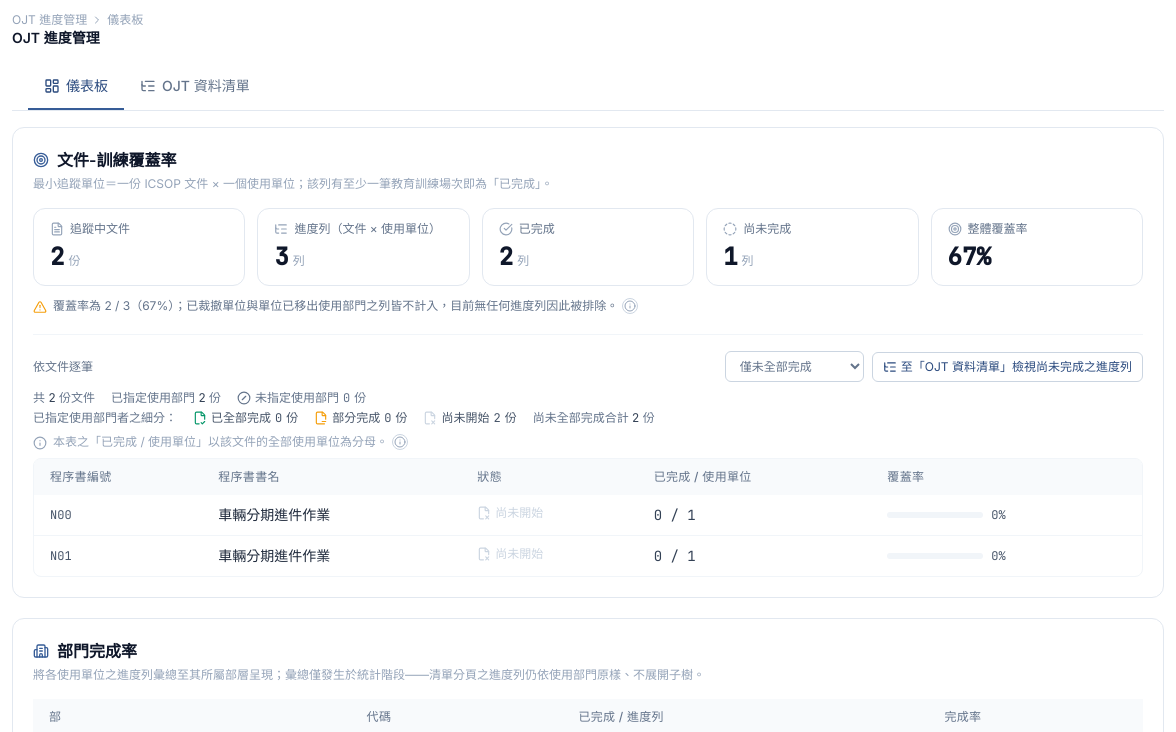
OjtProgressPage — F042 OJT 進度管理（移植 prototype 25） › B-2. TAB1 區一逐筆表節流（OQ-E11-21／AC-14 節流／AC-28⑯） › 導向 TAB2 入口：恆存在（未截斷案）；點擊 ⇒ 切至 TAB2、完成狀態設為「尚未完成」、單位關鍵字清空、制定本部未選定；TAB2 篩選項為恰三項（AC-UX49／AC-UX50④／AC-UX54⑤）
Click the button "至「OJT 資料清單」檢視尚未完成之進度列" at (1007, 366), box [872, 352, 1143, 382]
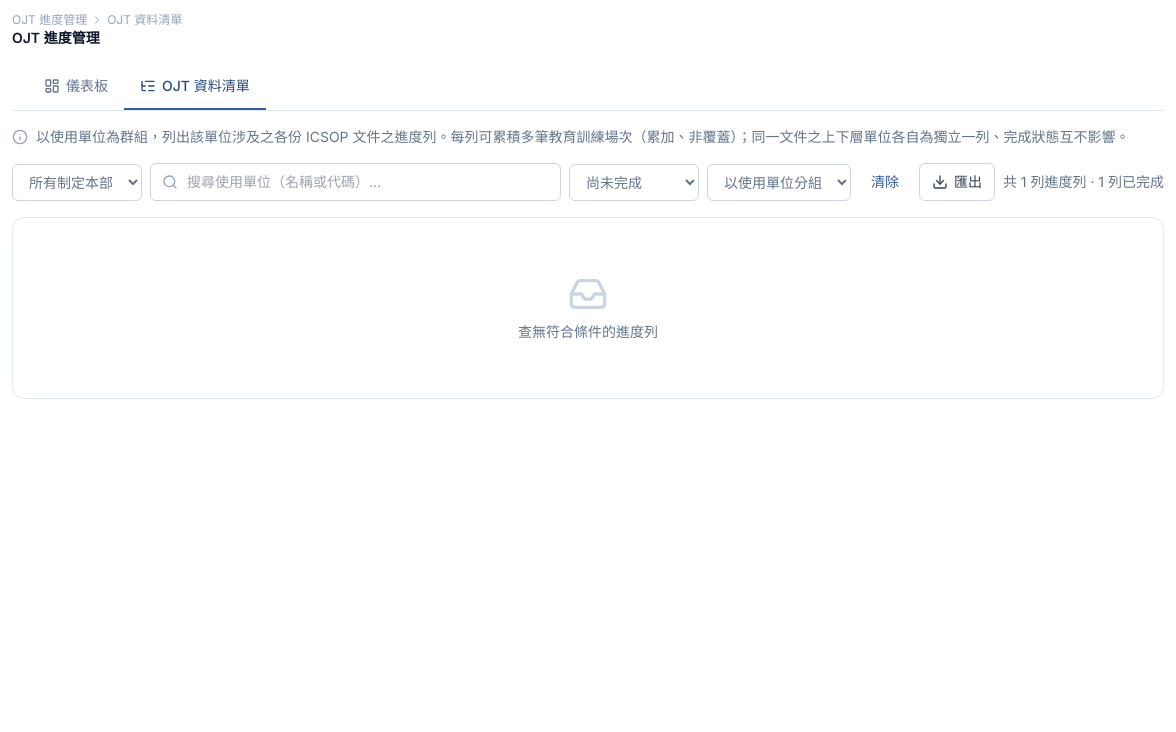
Expected: the dropdown named "完成狀態" shows "尚未完成", [569, 164, 699, 200]
Expected: the search field with placeholder "搜尋使用單位（名稱或代碼）…" is empty, [150, 163, 561, 201]
Expected: the dropdown named "制定本部" shows "所有制定本部", [12, 164, 142, 200]
